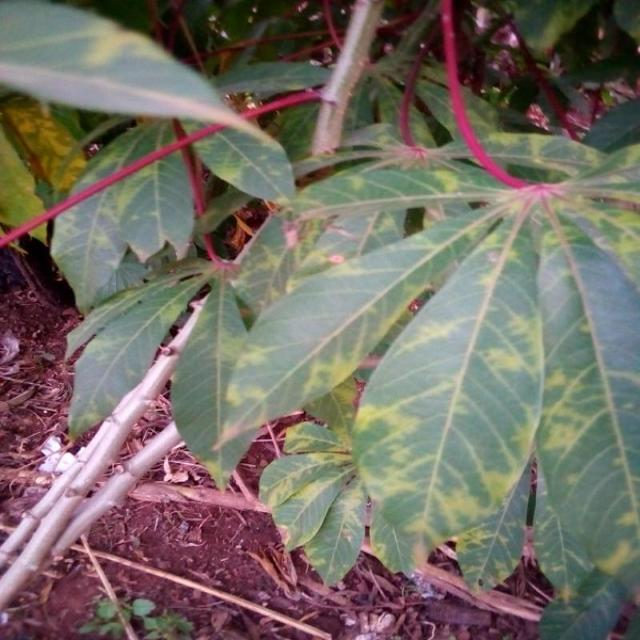cassava leaf: (2, 1, 640, 636), (350, 211, 546, 580), (2, 0, 296, 204), (50, 115, 198, 317), (66, 266, 210, 439)
